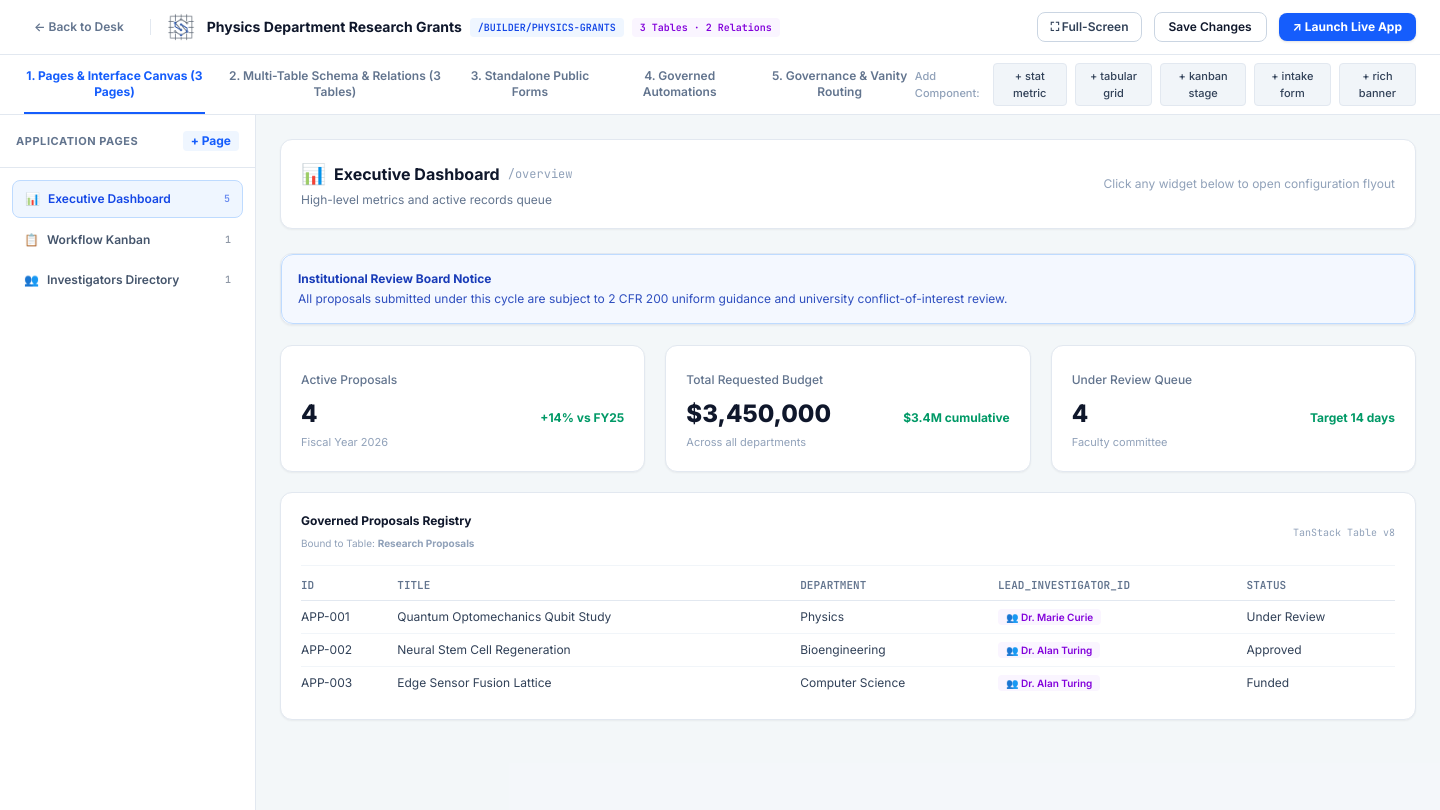
Test: AppBuilder Usability & Interactive Component Canvas › supports multiple tables per app and foreign key relational lookups in Data tab
# Switch to Data & Schema tab
What coordinates should you click on to do the following:
click the button with test id "tab-btn-data"
I would click on:
 (335, 84)
Its box is 229,56 -> 441,114.
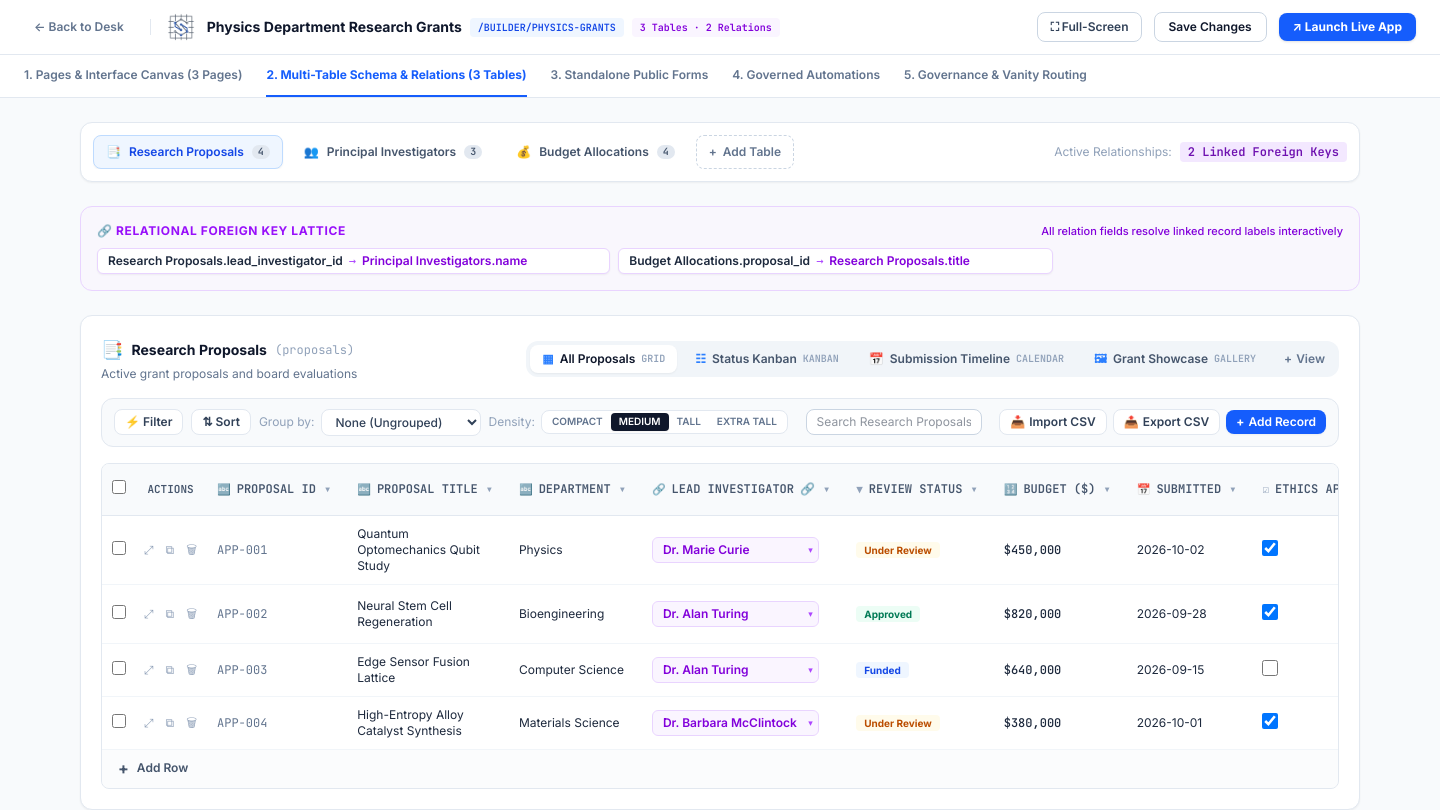
Expected: the button with test id "table-tab-proposals" is shown, 93,135 -> 283,169
Expected: the button with test id "table-tab-investigators" is shown
Expected: the button with test id "table-tab-allocations" is shown, 503,135 -> 688,169
# Switch to Principal Investigators table
What coordinates should you click on to do the following:
click the button with test id "table-tab-investigators"
I would click on:
 (393, 152)
Its box is 291,135 -> 495,169.
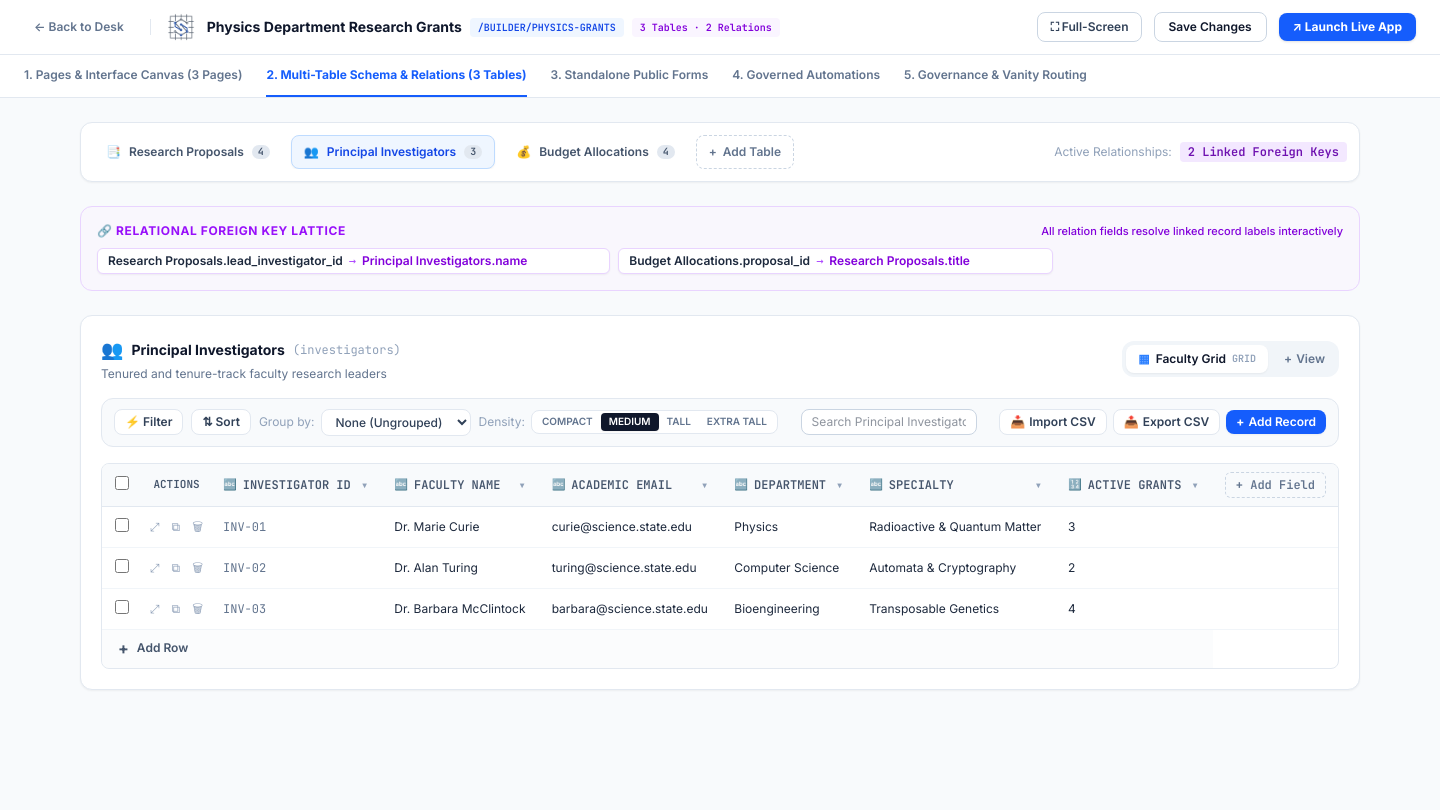
Expected: the text "Tenured and tenure-track faculty research leaders" is shown, 101,366 -> 401,382
Expected: the text "Dr. Alan Turing" is shown, 394,560 -> 478,574
# Switch to Budget Allocations table
What coordinates should you click on to do the following:
click the button with test id "table-tab-allocations"
I would click on:
 (595, 152)
Its box is 503,135 -> 688,169.
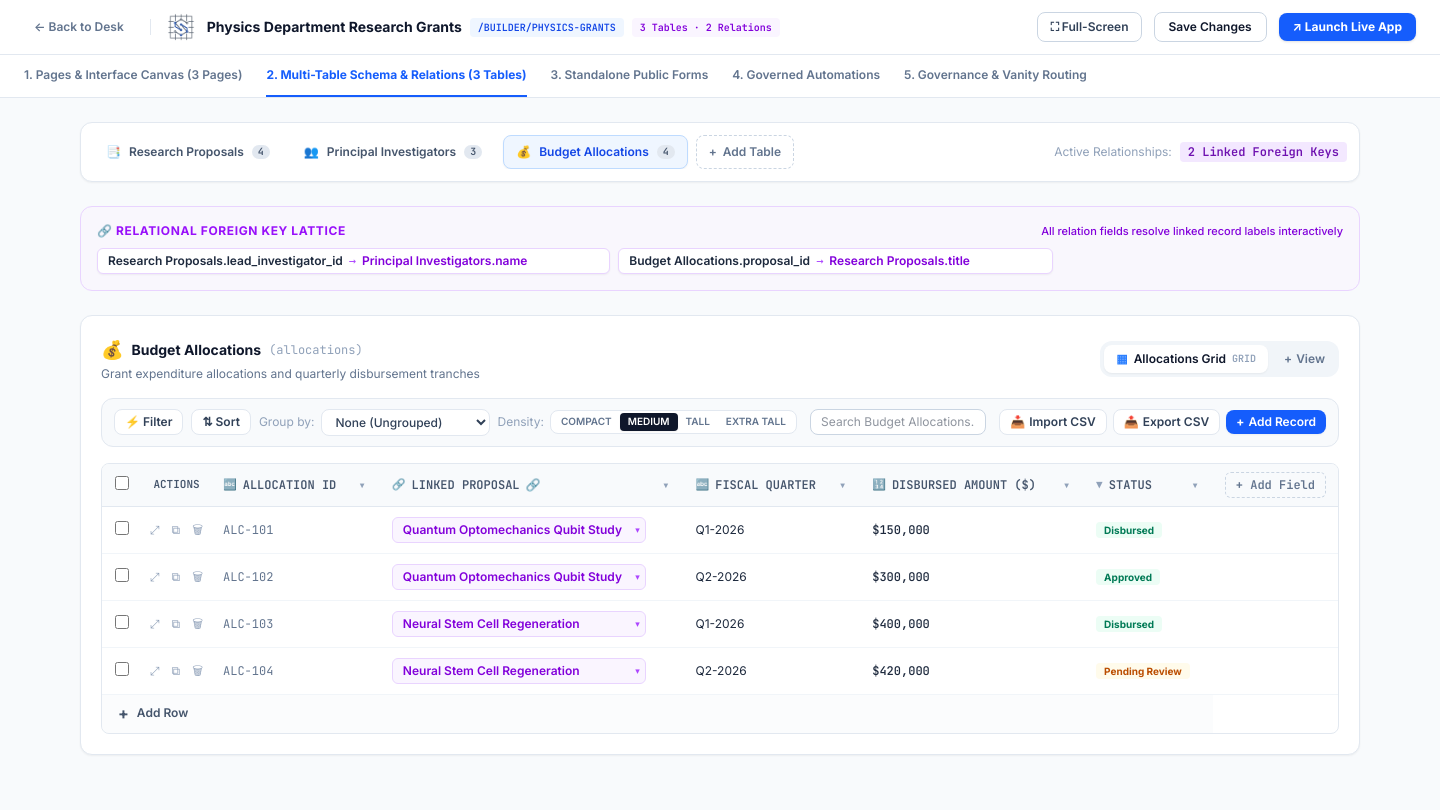
Expected: the text "Grant expenditure allocations and quarterly disbursement tranches" is shown, 101,366 -> 480,382
Expected: the text "ALC-101" is shown, 223,522 -> 273,538
